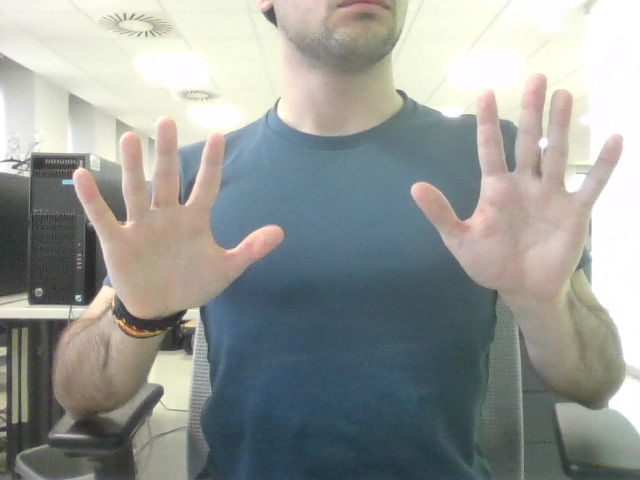Manos Arriba: (109, 95, 588, 281)
